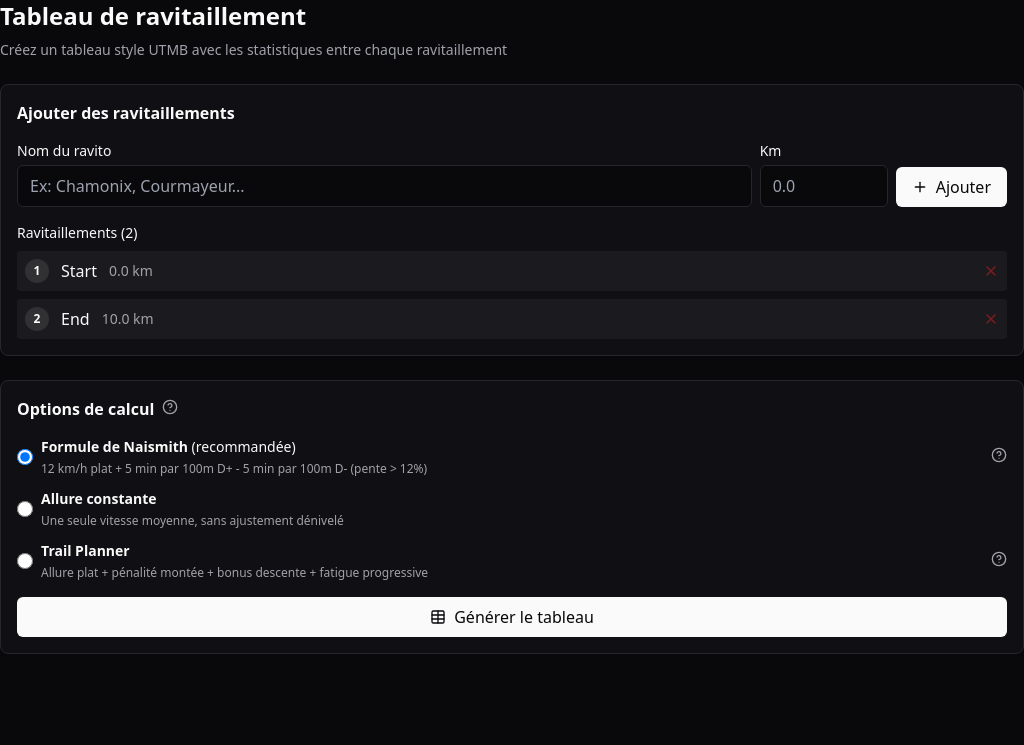
Test case: AidStationTable — calc modes › preserves trail_planner values when toggling to naismith and back
Click the radio button labelled "Trail Planner".
click(25, 561)  # box [17,553,33,569]
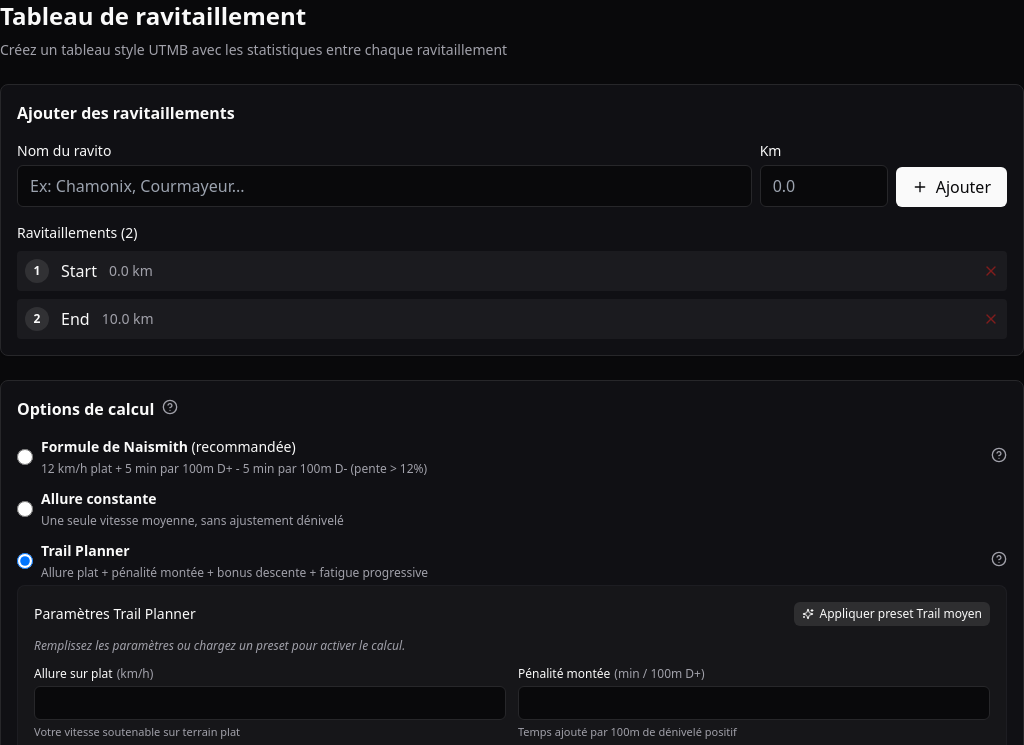
Click the button "Appliquer preset Trail moyen".
click(892, 614)  # box [794,602,990,626]
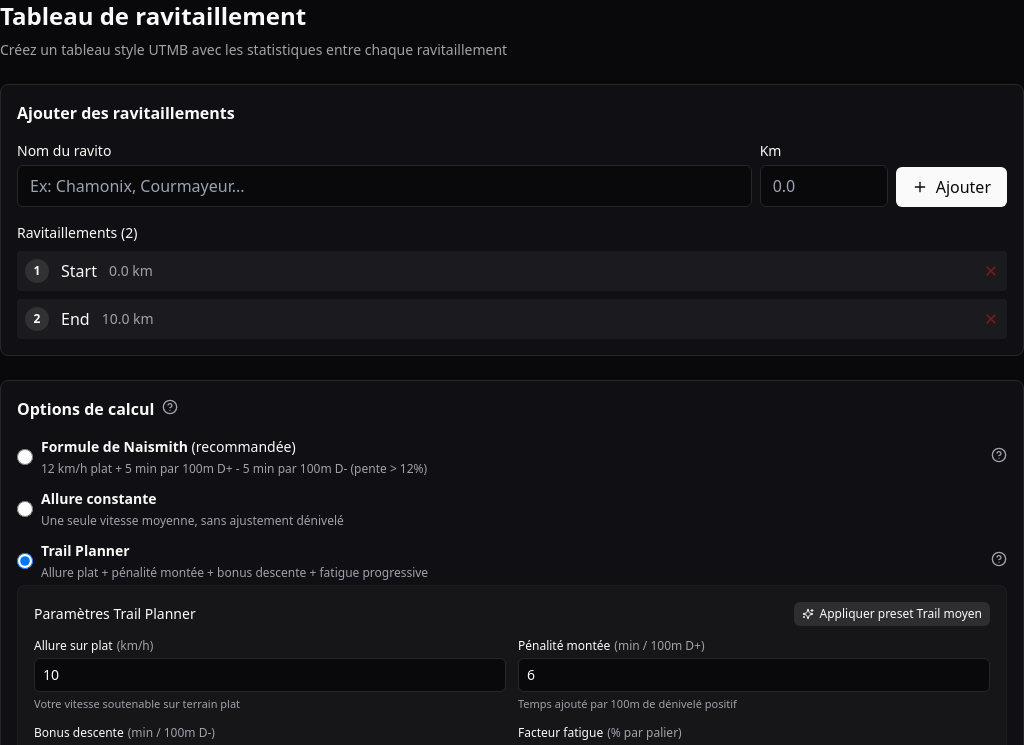
Click the radio button labelled "Formule de Naismith".
click(25, 457)  # box [17,449,33,465]
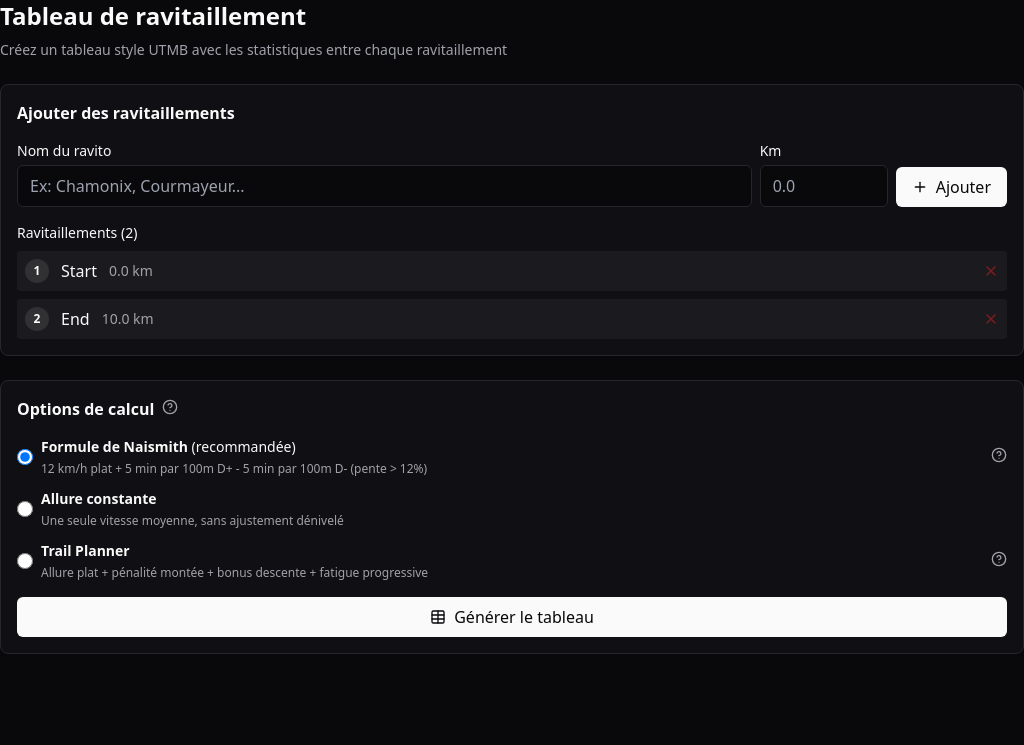
Click the radio button labelled "Trail Planner".
click(25, 561)  # box [17,553,33,569]
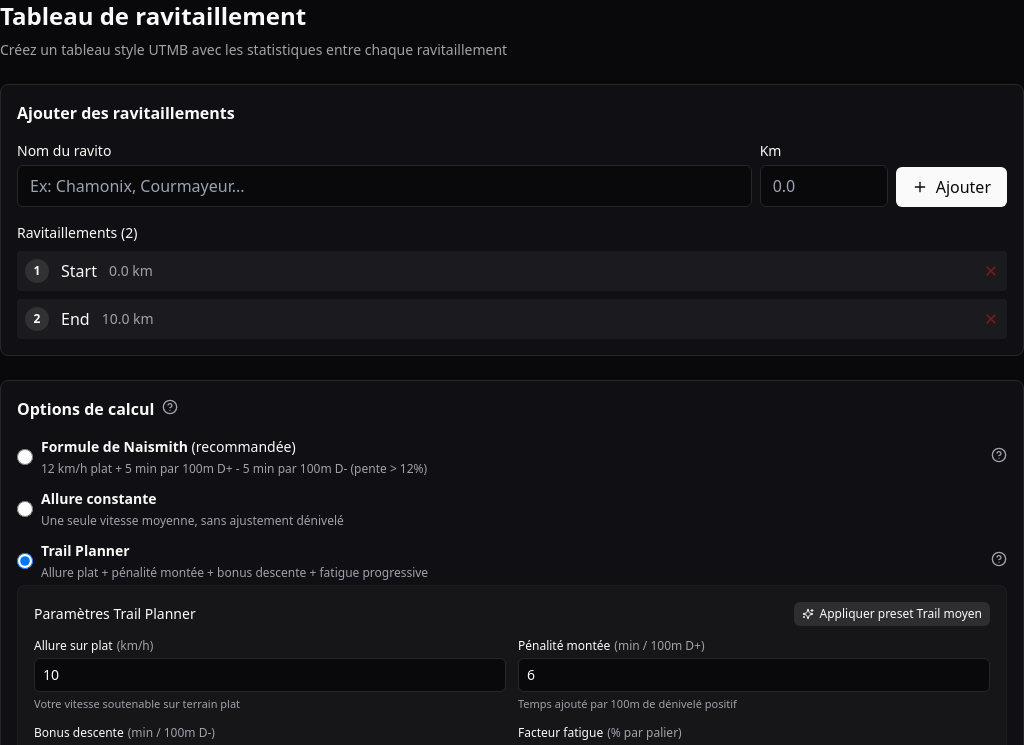
Expected: the number field labelled "Allure sur plat(km/h)" holds "10", [34,658,506,692]
